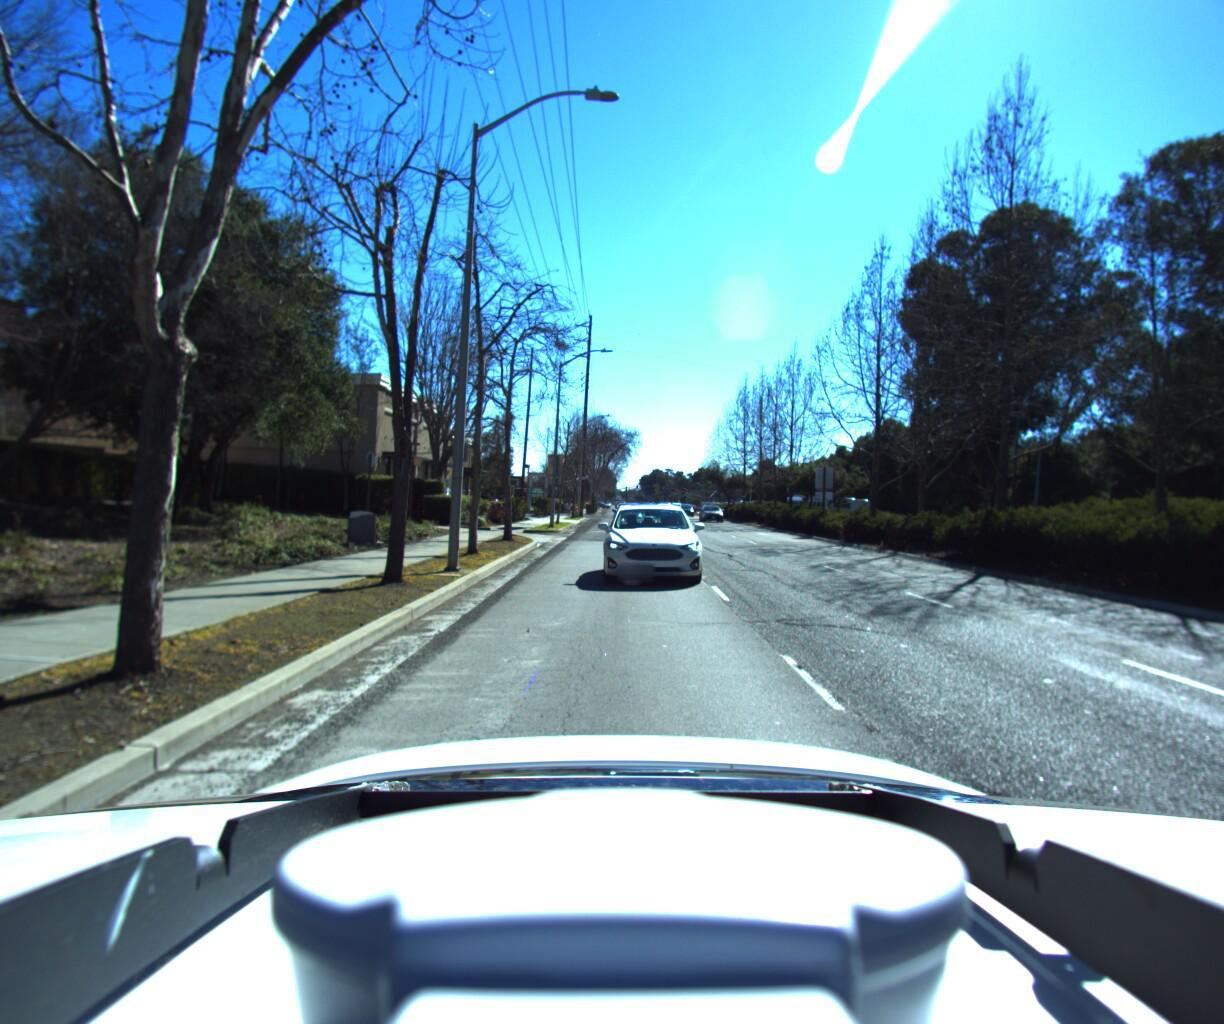bus: (768, 489, 858, 524)
car: (598, 501, 707, 592), (695, 501, 725, 521)
